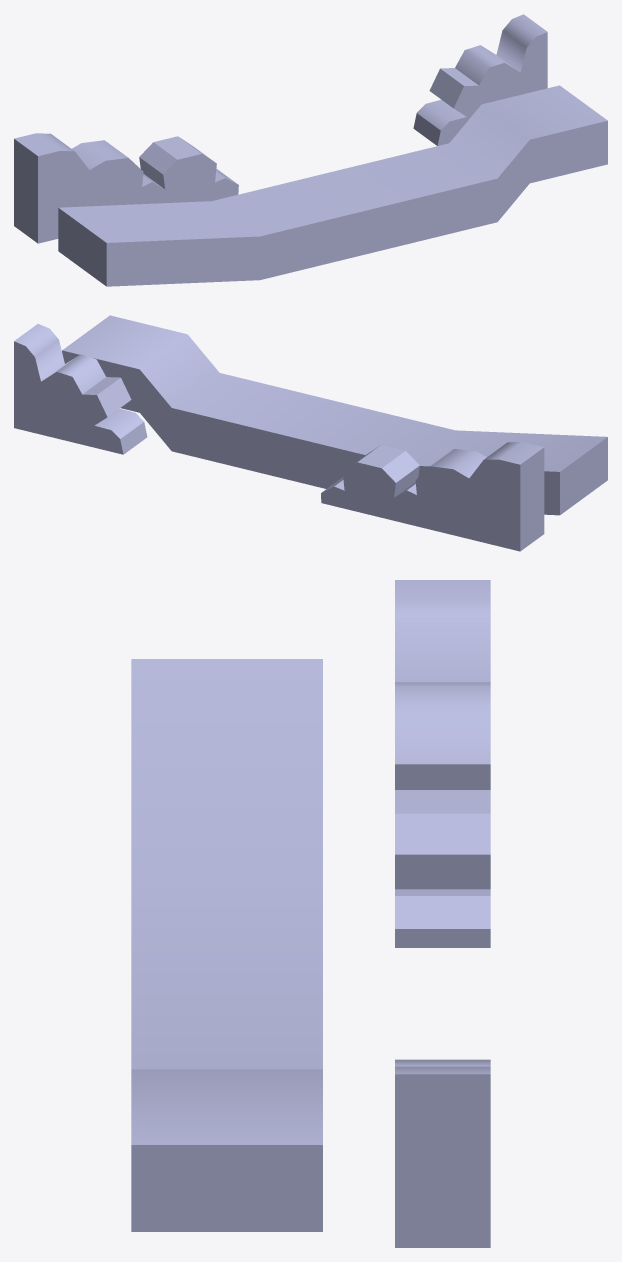
Rendered from ChasmRight.fbx.
3 renders of one model, top to bottom at view 1: azimuth 30°, elevation 25°; view 2: azimuth 150°, elevation 25°; view 3: azimuth 270°, elevation 25°, orthographic. The views are drawn at different scales.
Visible parts, largest first — view 1: ChasmRightTrack, CR1, CR2; view 2: ChasmRightTrack, CR1, CR2; view 3: ChasmRightTrack, CR1, CR2.
Part boxes in pixels (bbox=[...]): ChasmRightTrack: bbox=[58, 85, 607, 286]; CR1: bbox=[14, 133, 238, 243]; CR2: bbox=[413, 14, 547, 145]; ChasmRightTrack: bbox=[62, 315, 607, 515]; CR1: bbox=[321, 442, 544, 551]; CR2: bbox=[14, 324, 147, 454]; ChasmRightTrack: bbox=[131, 659, 322, 1231]; CR1: bbox=[395, 580, 490, 947]; CR2: bbox=[395, 1059, 490, 1247].
Bounding box in the file's own units: 61 × 12.96 × 18.75.
